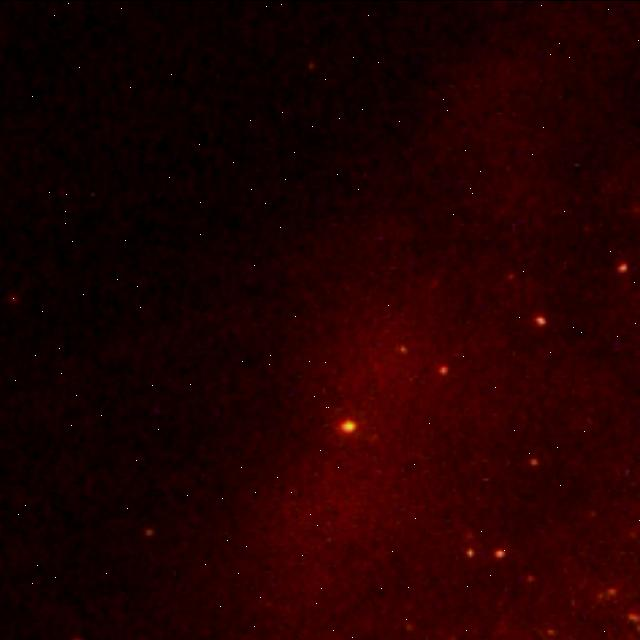Fragment: (339, 412, 361, 442)
